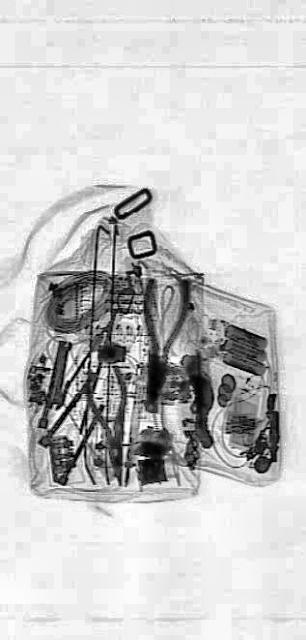Pliers: (130, 263, 190, 421), (83, 355, 137, 495)
